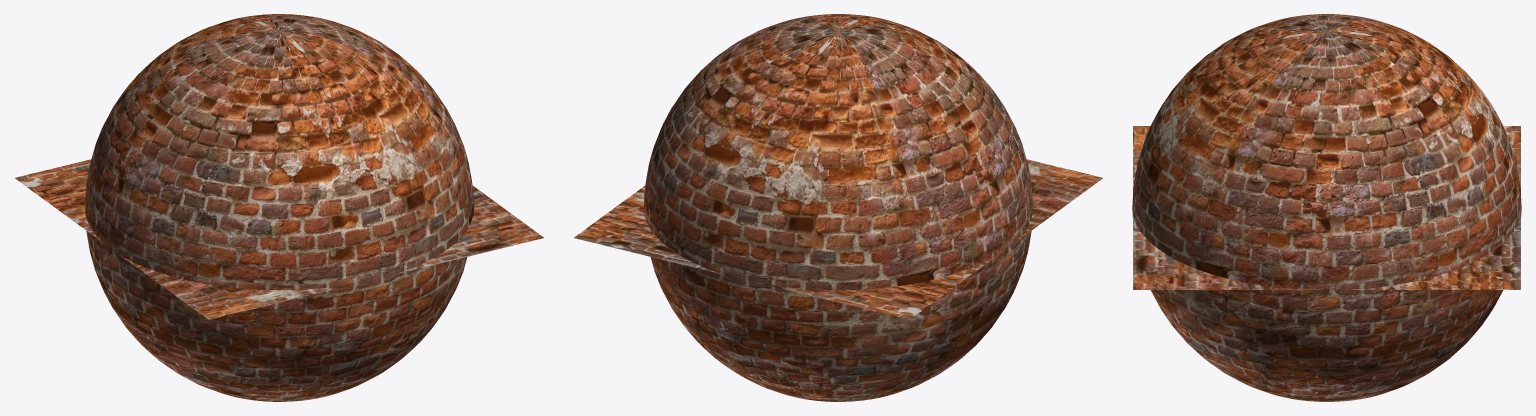
File: castle_brick_broken.glb
3 renders of one model, left to right at view 1: azimuth 30°, elevation 25°; view 2: azimuth 150°, elevation 25°; view 3: azimuth 270°, elevation 25°, orthographic.
Parts seen in each view (by area): view 1: Sphere, Plane; view 2: Sphere, Plane; view 3: Sphere, Plane.
Part boxes in pixels (box(x1,y1,x2,y2)): Sphere: box(85, 14, 473, 401); Plane: box(15, 159, 543, 319); Sphere: box(644, 14, 1032, 401); Plane: box(574, 159, 1102, 319); Sphere: box(1132, 14, 1521, 401); Plane: box(1133, 126, 1520, 289).
Bounding box in the file's own units: 2.51 × 2.5 × 2.51.
1 material, 1 textured.
